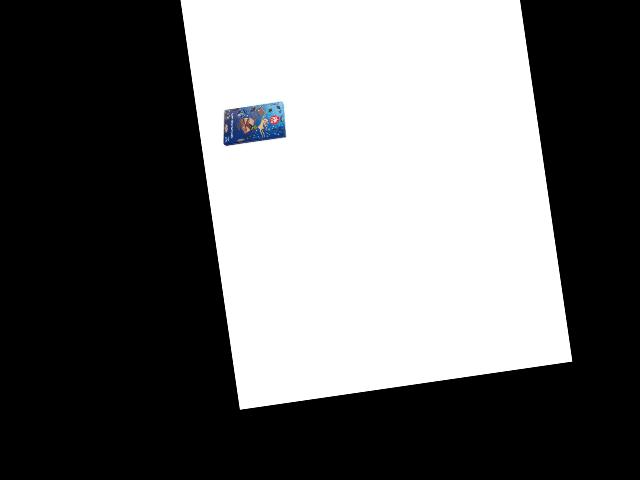chocolate: (217, 96, 290, 150)
